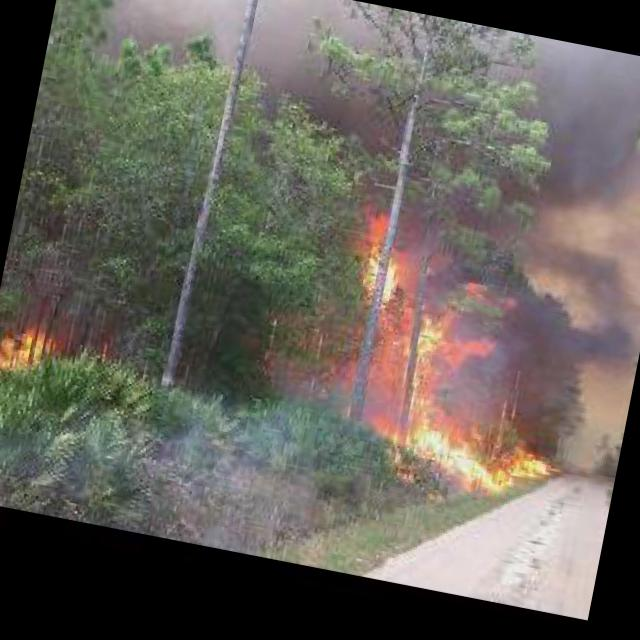fire: (284, 186, 606, 510), (0, 312, 54, 371)
